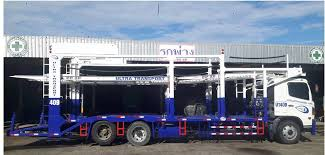truck: (10, 52, 317, 146)
